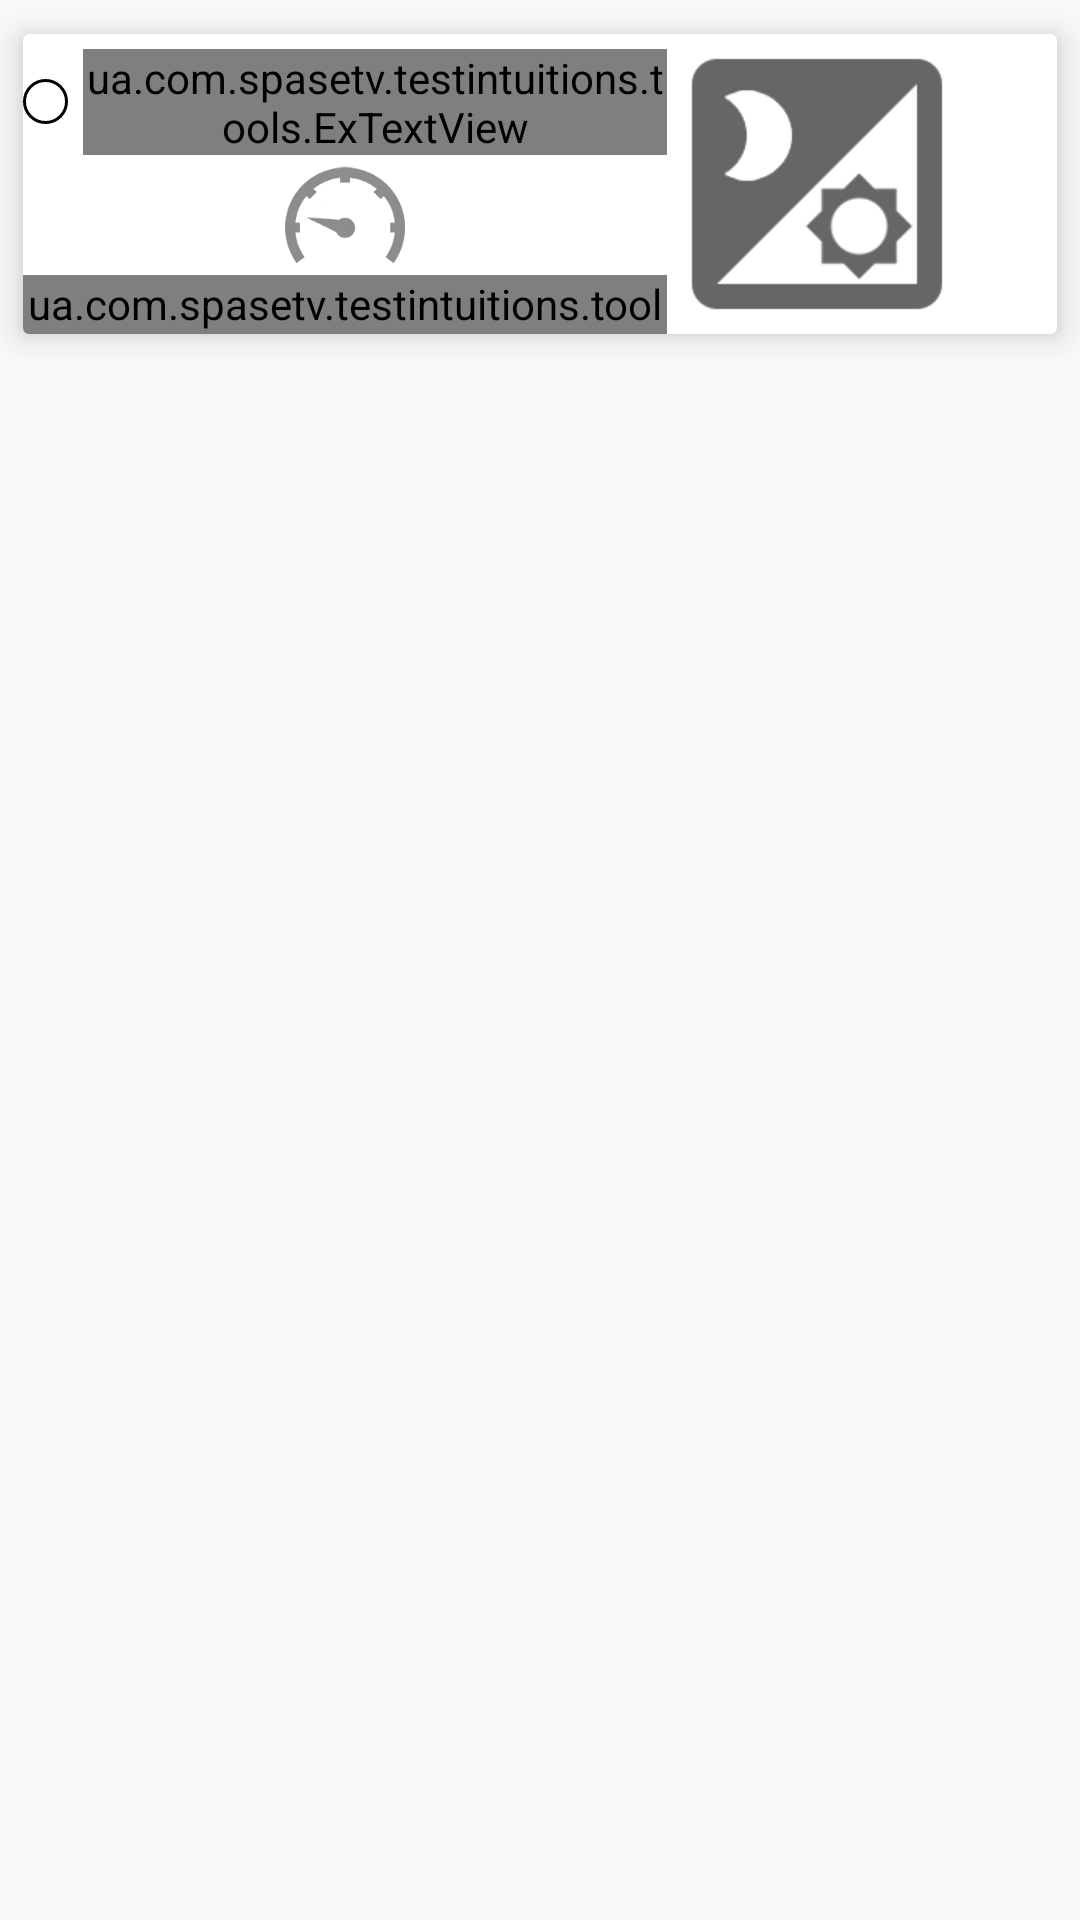

Screen size 1080px×1920px. Icon name, then its box in pixels as detection(x1, y1, x2, y2):
indicator easy: detection(285, 167, 405, 263)
